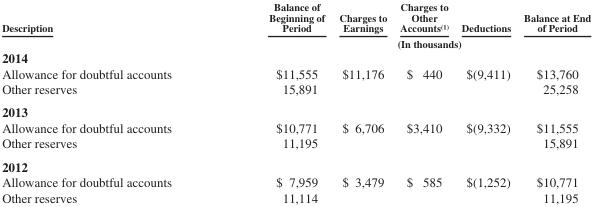table: (1, 0, 590, 204)
table column: (1, 0, 219, 204), (219, 0, 331, 204), (516, 0, 590, 204), (392, 0, 454, 204), (454, 0, 516, 204), (331, 0, 392, 204)
table column header: (1, 0, 590, 49)
table projected row header: (1, 100, 590, 119), (1, 154, 590, 173), (1, 49, 590, 65)
table row: (1, 0, 590, 35), (1, 80, 590, 100), (1, 100, 590, 119), (1, 135, 590, 154), (1, 154, 590, 173), (1, 49, 590, 65), (1, 119, 590, 135), (1, 173, 590, 189), (1, 65, 590, 80), (1, 189, 590, 204), (1, 35, 590, 49)
table spanning cell: (1, 0, 219, 49), (219, 35, 590, 49)
